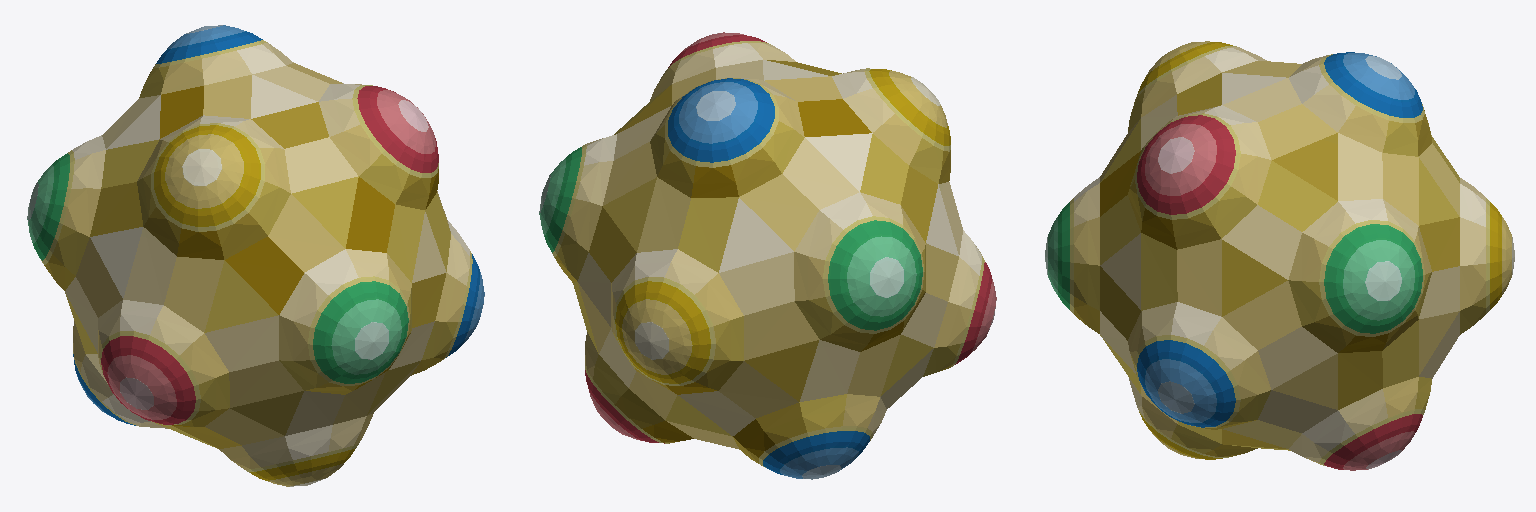
The picture shows the model from 3 angles: view 1: azimuth 30°, elevation 25°; view 2: azimuth 150°, elevation 25°; view 3: azimuth 270°, elevation 25°; orthographic projection.
Parts seen in each view (by area): view 1: core_14_0; view 2: core_14_0; view 3: core_14_0.
Part boxes in pixels (x1,y1,x2,y2): core_14_0: (27,25,484,486); core_14_0: (539,32,996,479); core_14_0: (1045,41,1514,470).
Bounding box in the file's own units: 0.0478 × 0.0494 × 0.0537.
Materials: 1 (1 with a texture image).